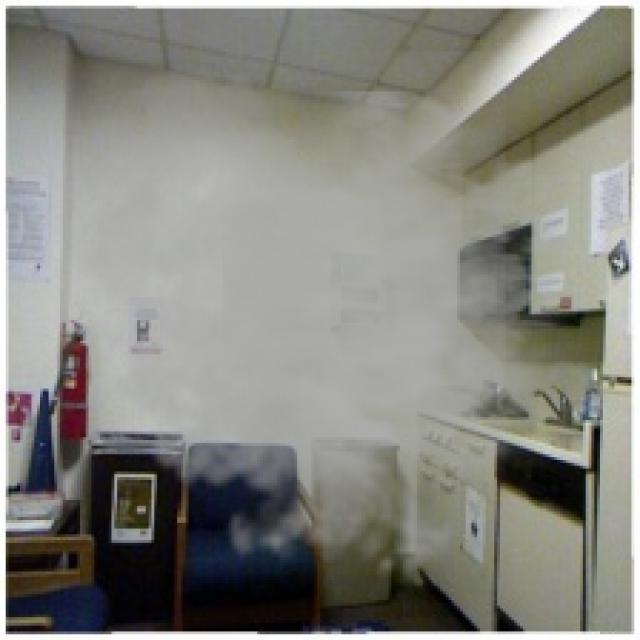Smoke: (51, 51, 603, 594)
